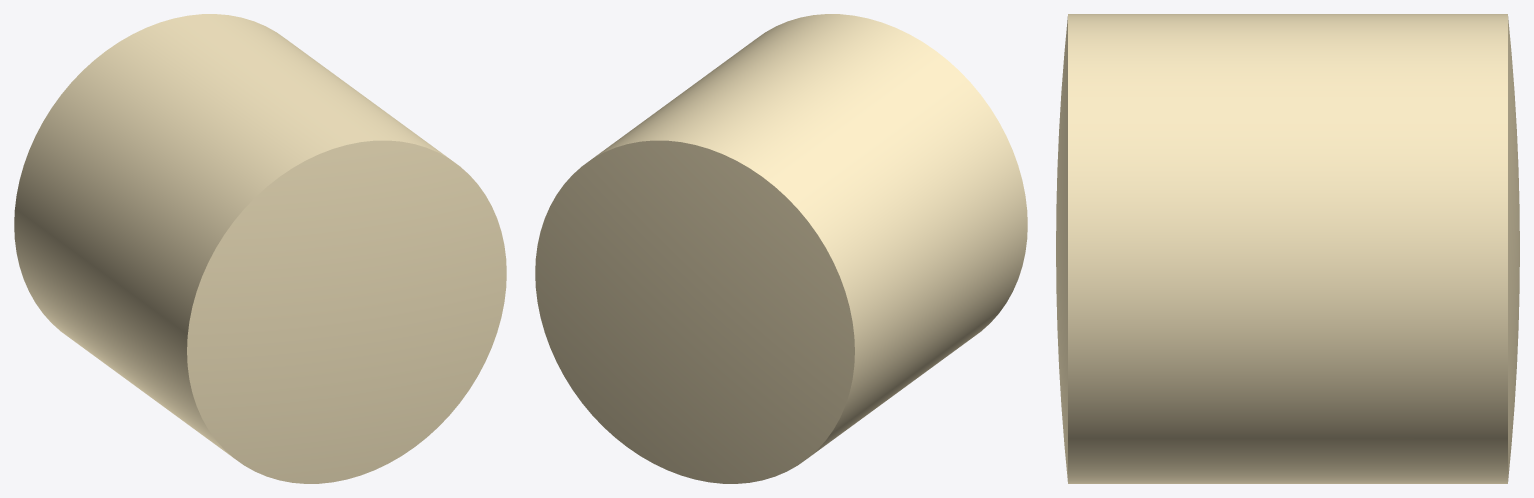
The model's file is FG_MedallionFace.fbx.
The picture shows the model from 3 angles, left to right: view 1: azimuth 30°, elevation 25°; view 2: azimuth 150°, elevation 25°; view 3: azimuth 270°, elevation 25°; orthographic projection. The views are drawn at different scales.
Parts seen in each view (by area): view 1: FG_MedallionFace; view 2: FG_MedallionFace; view 3: FG_MedallionFace.
Boxes of the visible parts, bbox=[...] form: FG_MedallionFace: bbox=[14, 14, 506, 483]; FG_MedallionFace: bbox=[535, 14, 1027, 483]; FG_MedallionFace: bbox=[1056, 14, 1519, 483].
Bounding box in the file's own units: 3.12 × 3.12 × 3.08.
